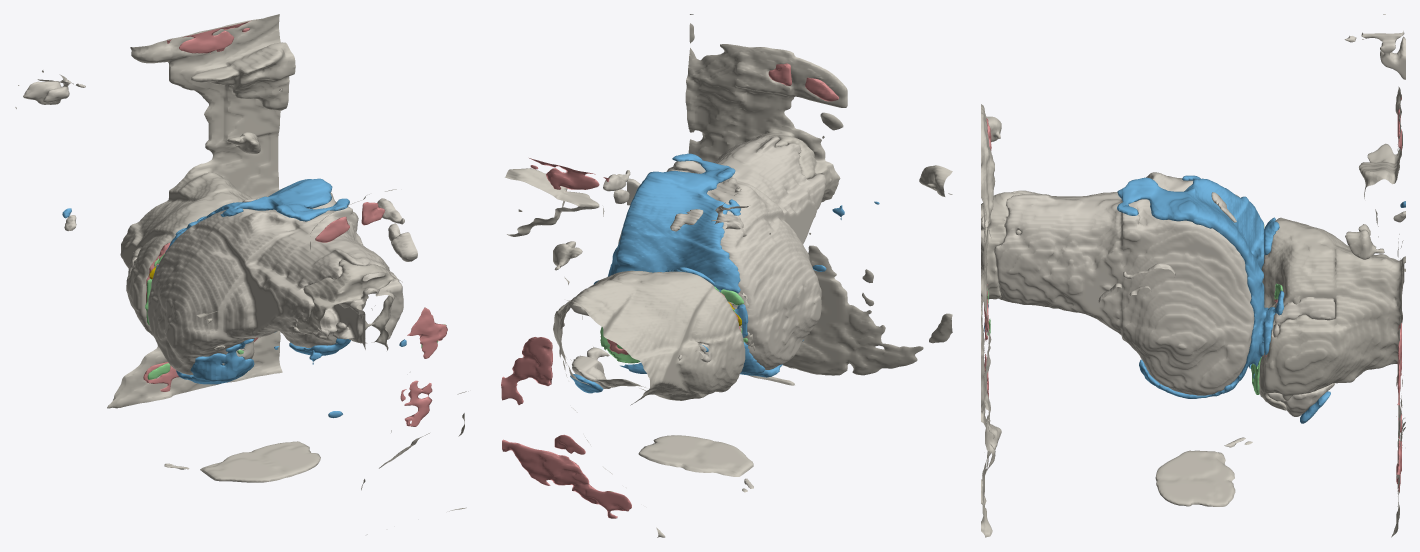
The model's file is knee_3d.glb.
3 renders of one model, left to right at view 1: azimuth 30°, elevation 25°; view 2: azimuth 150°, elevation 25°; view 3: azimuth 270°, elevation 25°, orthographic. The views are drawn at different scales.
Visible parts, largest first — view 1: Tibia, Femur, Femoral Cartilage, Medial Tibial Cartilage; view 2: Tibia, Femur, Femoral Cartilage, Medial Tibial Cartilage, Lateral Tibial Cartilage; view 3: Femur, Tibia, Femoral Cartilage, Medial Tibial Cartilage.
Boxes of the visible parts, x1,y1,x2,y2 form: Tibia: (107,14,468,534); Femur: (15,70,417,469); Femoral Cartilage: (62,178,406,418); Medial Tibial Cartilage: (143,21,447,426); Tibia: (505,14,952,537); Femur: (518,136,826,488); Femoral Cartilage: (570,153,879,393); Medial Tibial Cartilage: (501,63,838,518); Lateral Tibial Cartilage: (600,286,747,491); Femur: (981,14,1405,447); Tibia: (981,86,1405,537); Femoral Cartilage: (984,175,1405,423); Medial Tibial Cartilage: (984,96,1401,491).
Size of the model in its own units: 111 by 139 by 139.
